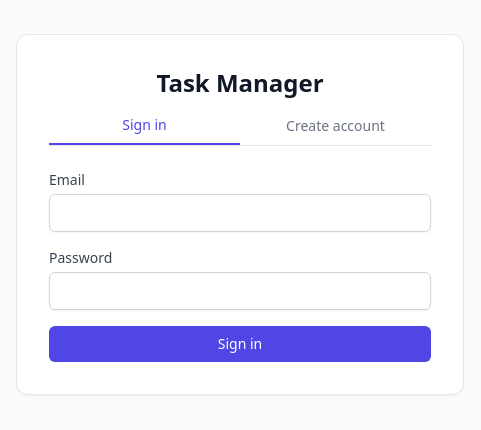
LoginPage › shows API error message on failed login
This screenshot has width=481, height=430.
Type "user@test.com" into the field labelled "Email".
click(240, 212); type("user@test.com")  # box 49,194 -> 431,232
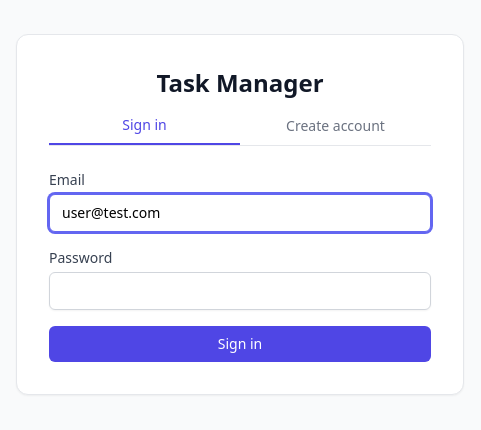
Type "wrongpassword" into the password field labelled "Password".
click(240, 290); type("wrongpassword")  # box 49,272 -> 431,310
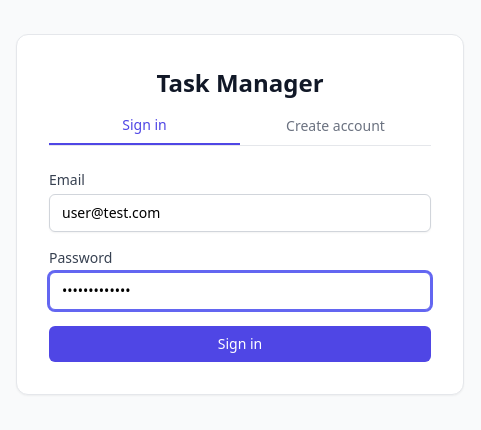
Click the button "Sign in".
click(240, 344)  # box 49,326 -> 431,362
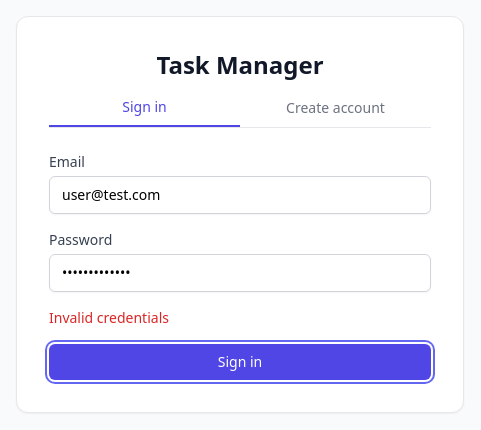
Now the text "Invalid credentials" is shown, box 49,308 -> 169,326
